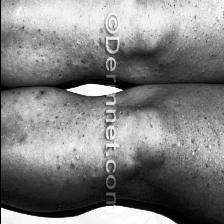Toxin: (0, 107, 94, 156), (159, 125, 224, 192), (65, 0, 108, 65), (166, 0, 224, 39)
